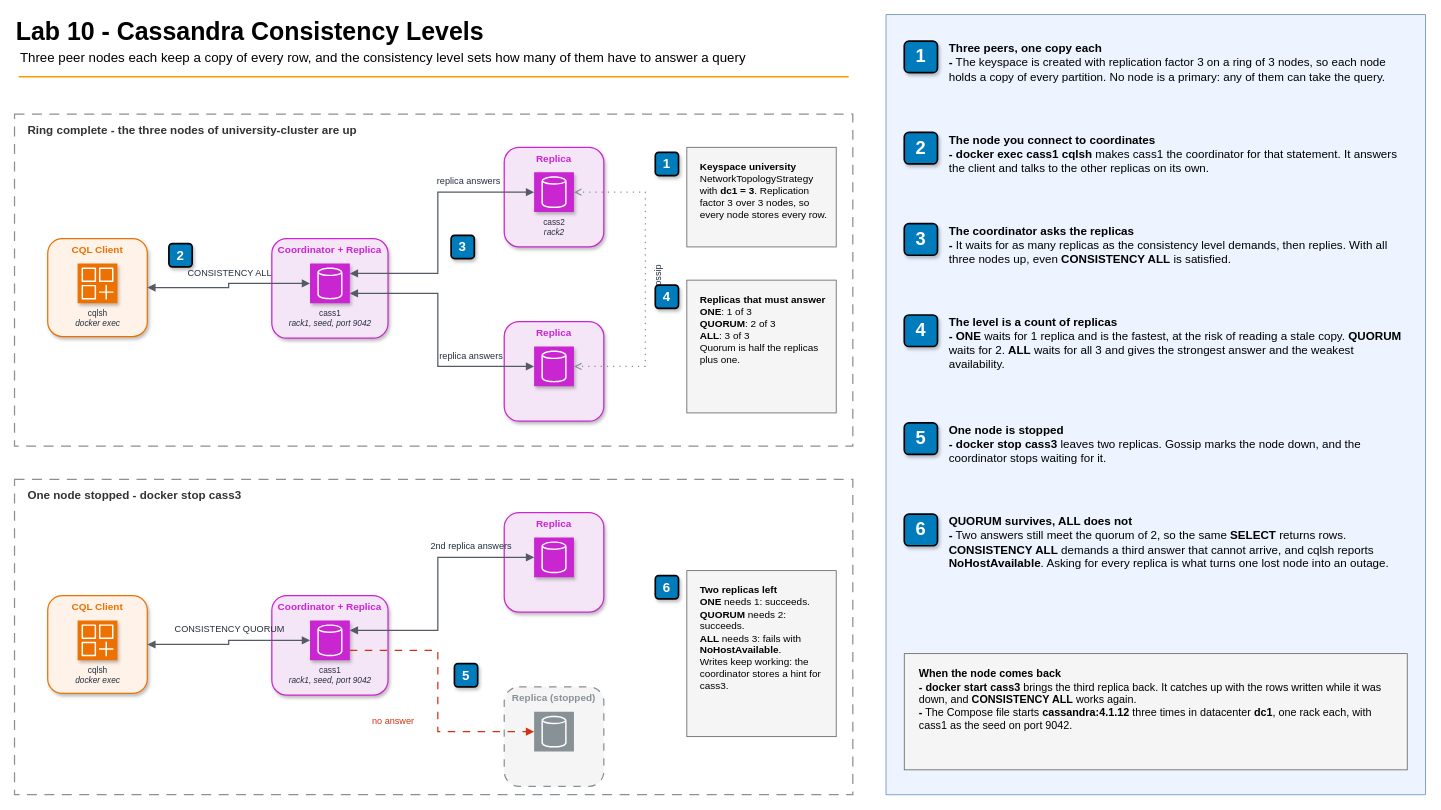
This 1441x810 diagram has some shape labels left out. The centre of each missing label's shape, as x and y in pixels:
"cass2 rack2, up" belongs at point 554,558.
"cass3 rack3" belongs at point 554,367.
"cass3 rack3, down" belongs at point 553,731.
